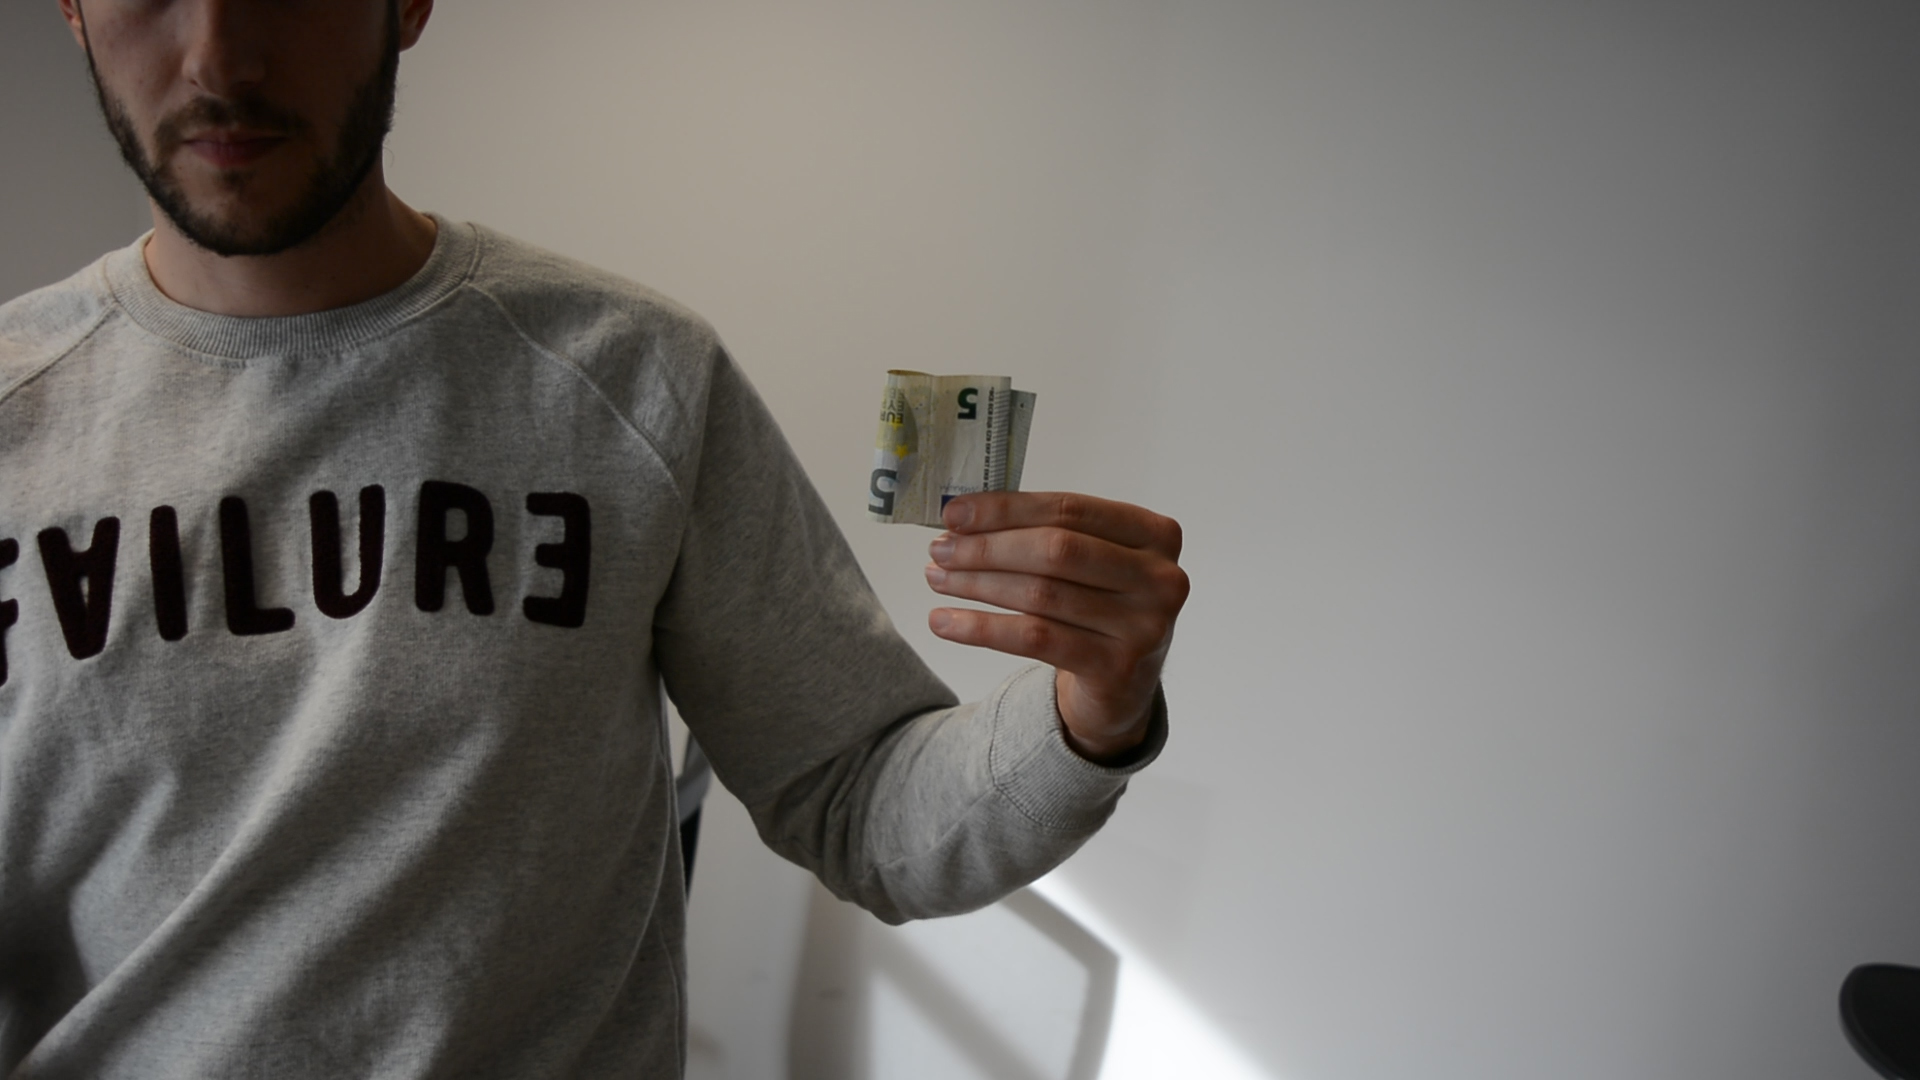billete: (862, 368, 1039, 531)
